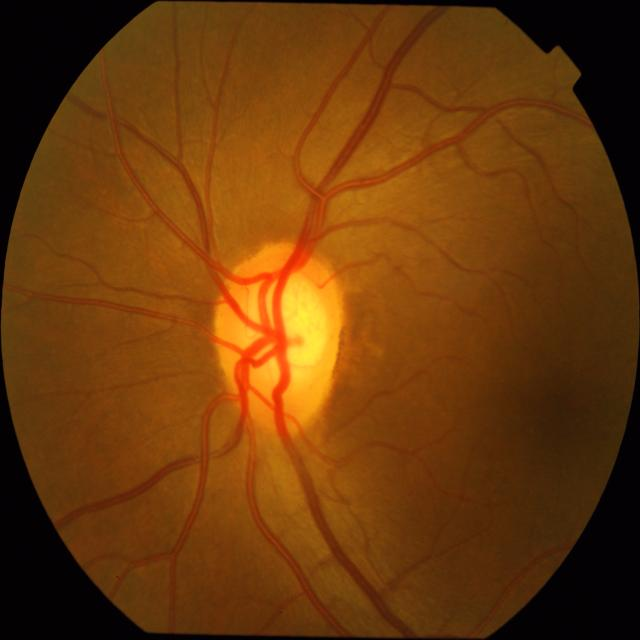OC: (247, 272, 328, 382)
OD: (213, 243, 345, 431)
